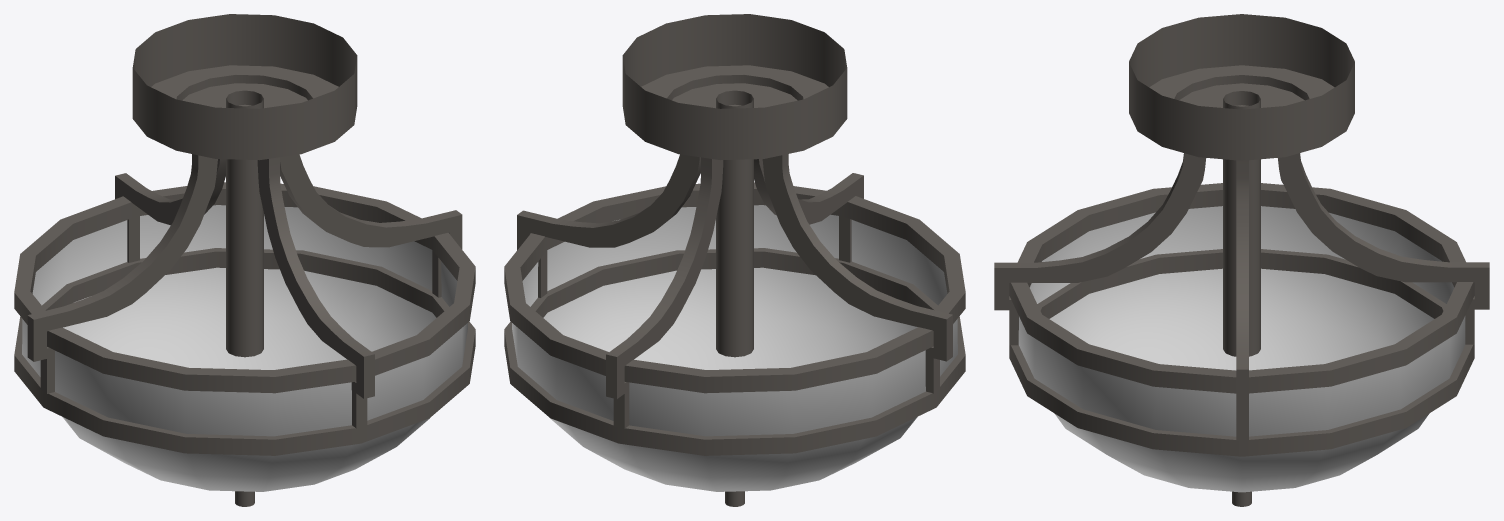
Rendered from Ceiling Light 1.fbx.
3 views of the same model, side by side, from view 1: azimuth 30°, elevation 25°; view 2: azimuth 150°, elevation 25°; view 3: azimuth 270°, elevation 25° (orthographic).
Parts seen in each view (by area): view 1: Empty_Mesh_1, Empty_Mesh; view 2: Empty_Mesh_1, Empty_Mesh; view 3: Empty_Mesh_1, Empty_Mesh.
Boxes of the visible parts, bbox=[...] form: Empty_Mesh_1: bbox=[14, 14, 475, 506]; Empty_Mesh: bbox=[22, 205, 467, 491]; Empty_Mesh_1: bbox=[504, 14, 965, 506]; Empty_Mesh: bbox=[512, 205, 957, 491]; Empty_Mesh_1: bbox=[994, 14, 1489, 506]; Empty_Mesh: bbox=[1018, 206, 1465, 492].
Size of the model in its own units: 394 by 387 by 394.
